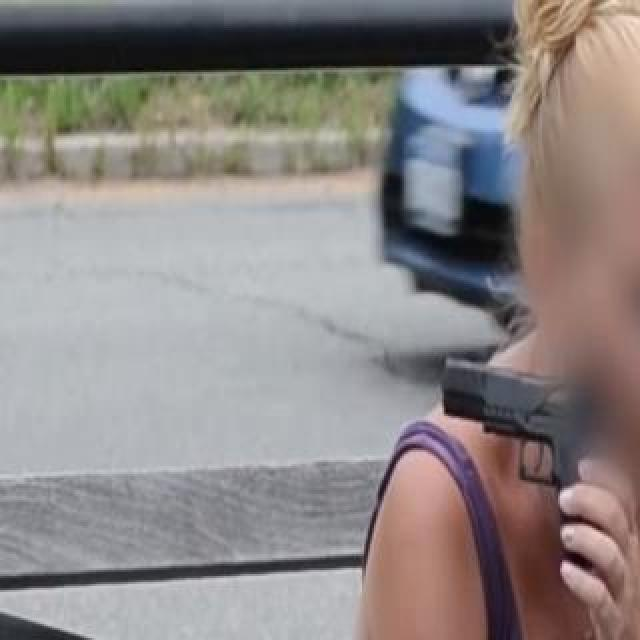Guns: (435, 336, 626, 604)
